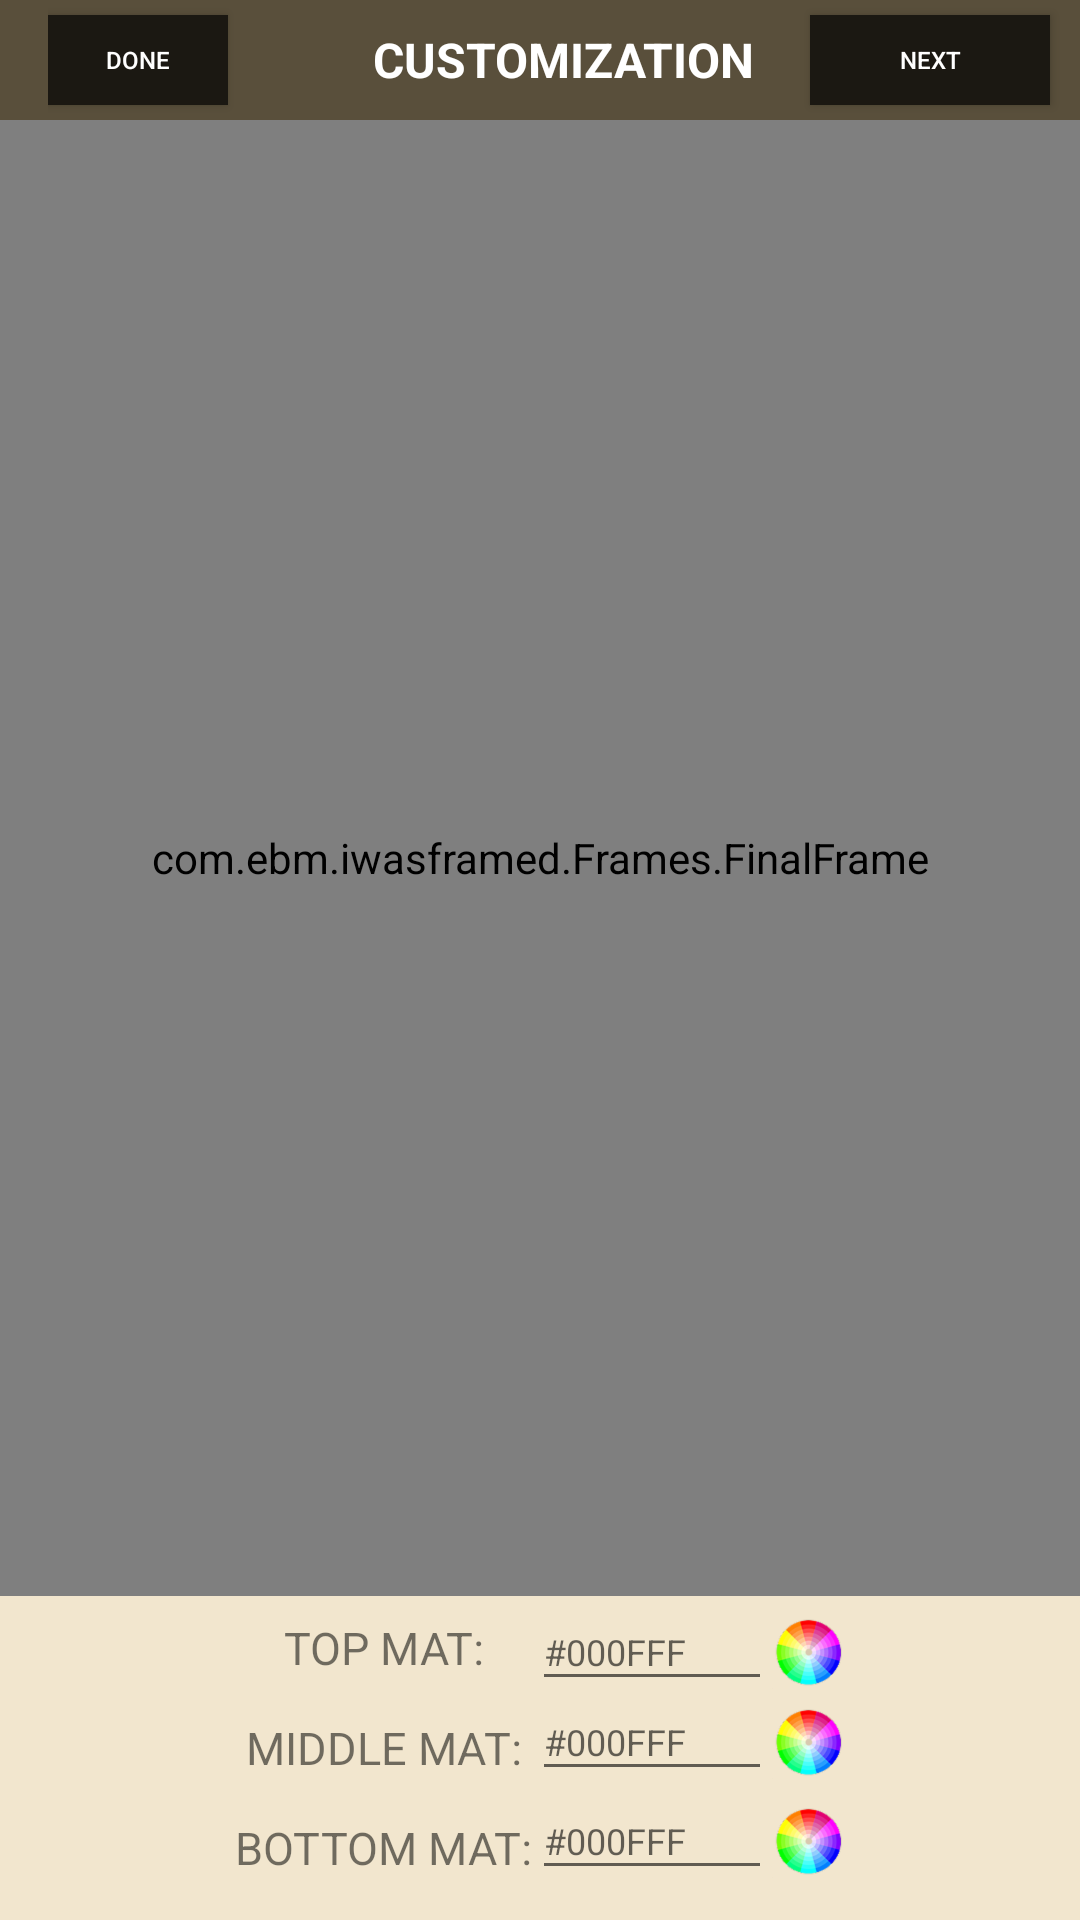

Point at icon controls on the screen. Image size 1080px x 1920px, points as [x,y].
picker: [808,1652], [808,1742], [808,1841]
